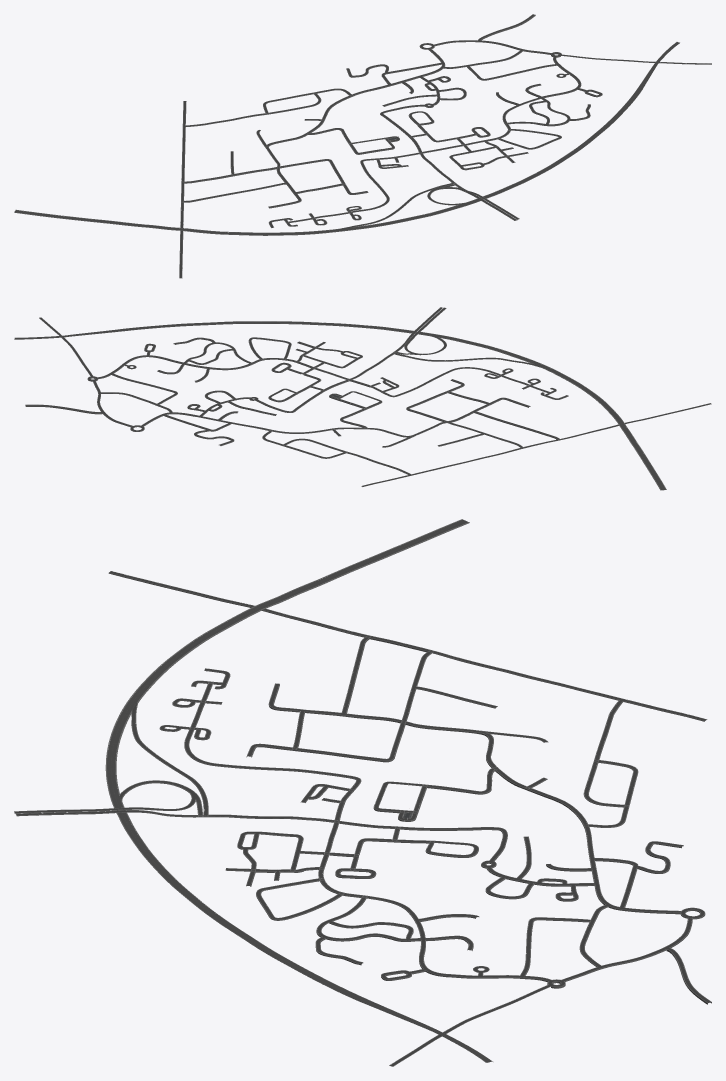
Rendered from roads-transformed.glb.
The picture shows the model from 3 angles, top to bottom: view 1: azimuth 30°, elevation 25°; view 2: azimuth 150°, elevation 25°; view 3: azimuth 270°, elevation 25°; orthographic projection. The views are drawn at different scales.
Parts seen in each view (by area): view 1: Roads_brighter, Sidewalks; view 2: Roads_brighter, Sidewalks; view 3: Roads_brighter, Sidewalks.
Part boxes in pixels (bbox=[...]): Roads_brighter: bbox=[14, 14, 711, 278]; Sidewalks: bbox=[14, 14, 711, 278]; Roads_brighter: bbox=[14, 307, 711, 490]; Sidewalks: bbox=[14, 307, 711, 490]; Roads_brighter: bbox=[14, 519, 710, 1066]; Sidewalks: bbox=[14, 519, 711, 1066].
Bounding box in the file's own units: 1989 × 14.81 × 1074.
4 materials, 3 textured.
